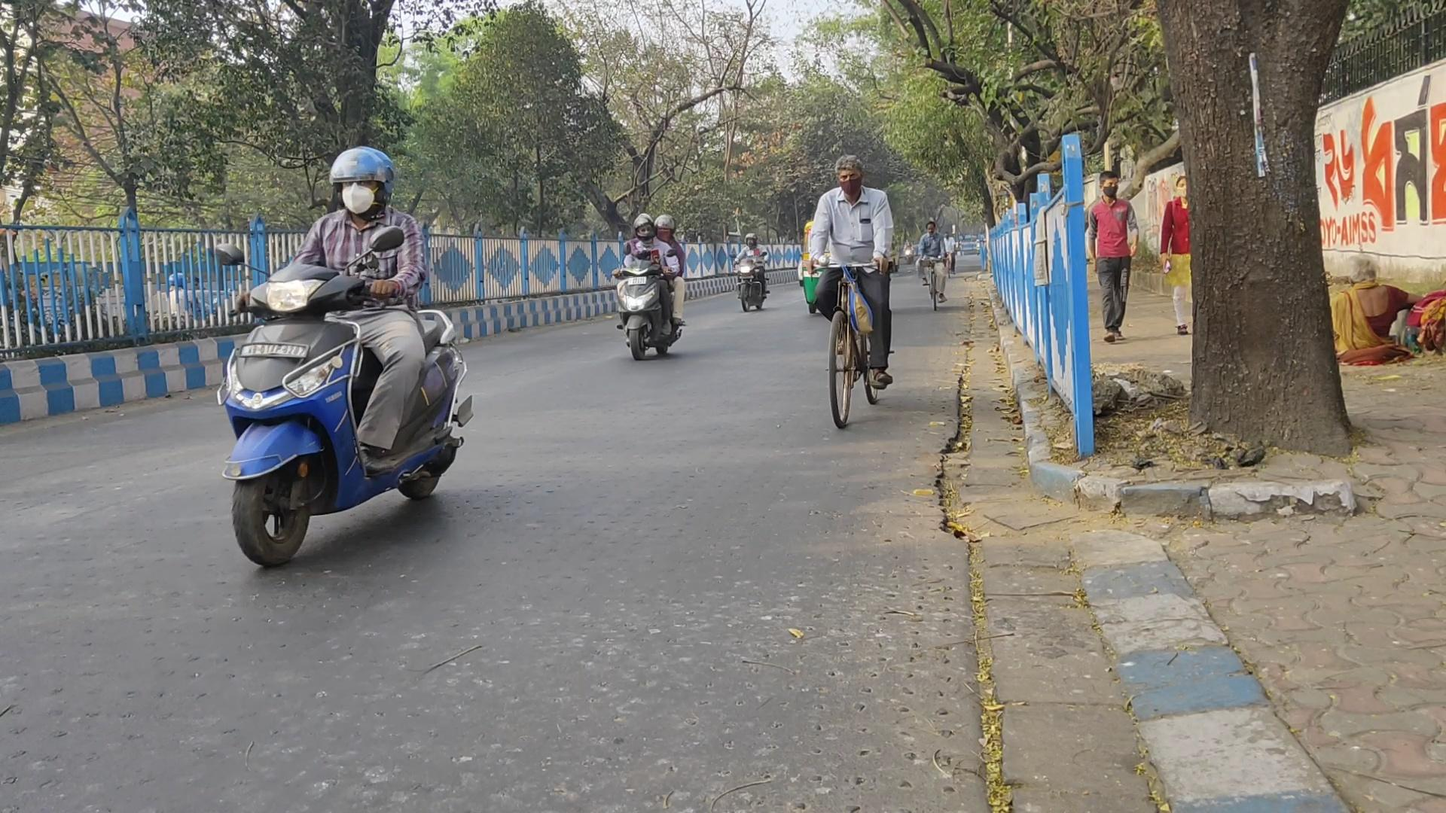bike: (212, 145, 475, 566), (811, 155, 891, 427), (613, 214, 689, 361), (731, 233, 769, 312), (916, 221, 948, 310)
